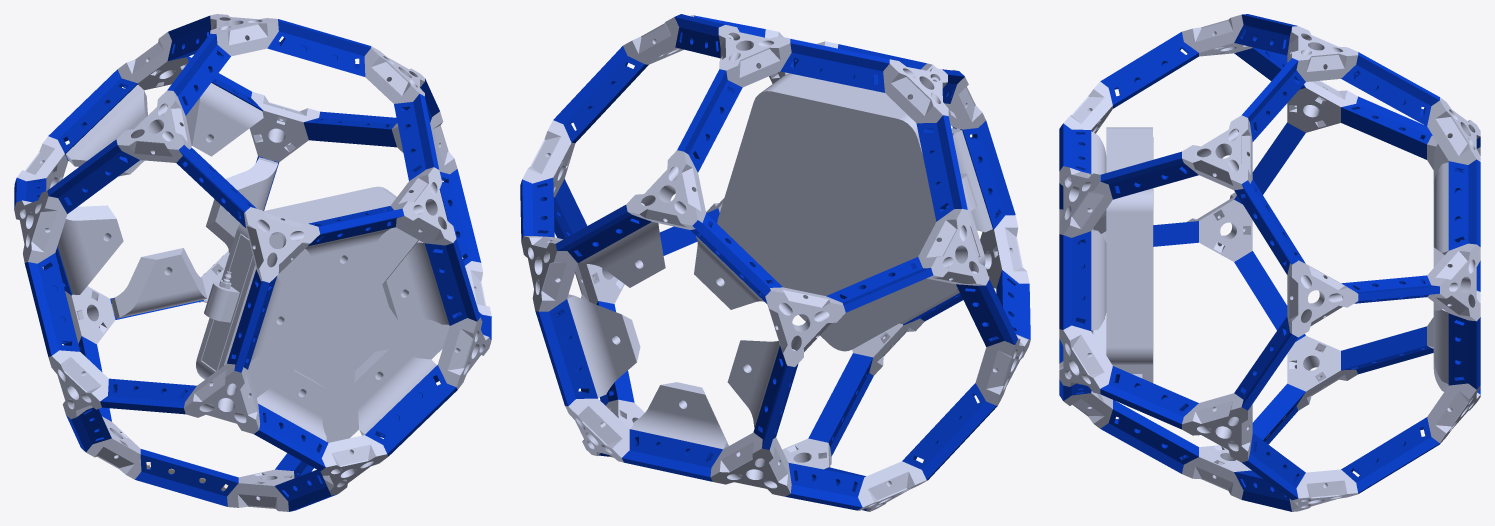
File: Polly.glb
3 views of the same model, side by side, from view 1: azimuth 30°, elevation 25°; view 2: azimuth 150°, elevation 25°; view 3: azimuth 270°, elevation 25° (orthographic). The views are drawn at different scales.
Parts seen in each view (by area): view 1: color-3, color-2[2], color-2[3], color-2[6], color-2[5], color-2, color[15], color[9], color[19], blue low gloss plastic-2[4], color[17], blue low gloss plastic[7] (+40 smaller); view 2: color-3, color-2[1], color-2[2], color[14], color[11], color[5], blue low gloss plastic-2[13], blue low gloss plastic[2], color, blue low gloss plastic-2[17], blue low gloss plastic-2[1], blue low gloss plastic-2[7] (+34 smaller); view 3: color-3, color[10], color[6], blue low gloss plastic[8], color[7], blue low gloss plastic-2[9], color[13], blue low gloss plastic-2[6], blue low gloss plastic-2[14], blue low gloss plastic-2[2], blue low gloss plastic-2[3], blue low gloss plastic-2[15] (+34 smaller).
Boxes of the visible parts, x1=… form: color-3: x1=196, y1=186, x2=449, y2=442; color-2[2]: x1=111, y1=248, x2=206, y2=318; color-2[3]: x1=57, y1=205, x2=123, y2=294; color-2[6]: x1=354, y1=349, x2=436, y2=435; color-2[5]: x1=382, y1=240, x2=449, y2=324; color-2: x1=186, y1=83, x2=263, y2=156; color[15]: x1=184, y1=363, x2=260, y2=433; color[9]: x1=116, y1=90, x2=191, y2=162; color[19]: x1=390, y1=167, x2=456, y2=245; blue low gloss plastic-2[4]: x1=24, y1=253, x2=80, y2=356; color[17]: x1=244, y1=207, x2=319, y2=282; blue low gloss plastic[7]: x1=365, y1=365, x2=457, y2=456; color-3: x1=717, y1=73, x2=985, y2=351; color-2[1]: x1=567, y1=294, x2=640, y2=397; color-2[2]: x1=631, y1=382, x2=728, y2=449; color[14]: x1=626, y1=150, x2=705, y2=229; color[11]: x1=765, y1=287, x2=845, y2=366; color[5]: x1=918, y1=209, x2=989, y2=285; blue low gloss plastic-2[13]: x1=780, y1=39, x2=889, y2=92; blue low gloss plastic[2]: x1=535, y1=299, x2=597, y2=406; color: x1=710, y1=432, x2=791, y2=496; blue low gloss plastic-2[17]: x1=553, y1=46, x2=648, y2=142; blue low gloss plastic-2[1]: x1=902, y1=383, x2=997, y2=480; blue low gloss plastic-2[7]: x1=916, y1=115, x2=967, y2=221; color-3: x1=1106, y1=127, x2=1153, y2=382; color[10]: x1=1182, y1=115, x2=1252, y2=190; color[6]: x1=1287, y1=260, x2=1358, y2=337; blue low gloss plastic[8]: x1=1059, y1=231, x2=1091, y2=330; color[7]: x1=1182, y1=393, x2=1252, y2=462; blue low gloss plastic-2[9]: x1=1100, y1=400, x2=1198, y2=473; color[13]: x1=1427, y1=243, x2=1480, y2=321; blue low gloss plastic-2[6]: x1=1341, y1=52, x2=1439, y2=125; blue low gloss plastic-2[14]: x1=1100, y1=32, x2=1198, y2=108; blue low gloss plastic-2[2]: x1=1341, y1=417, x2=1439, y2=493; blue low gloss plastic-2[3]: x1=1341, y1=96, x2=1432, y2=159; blue low gloss plastic-2[15]: x1=1100, y1=366, x2=1198, y2=429.
Size of the model in its own units: 0.2309 by 0.2318 by 0.1974.
